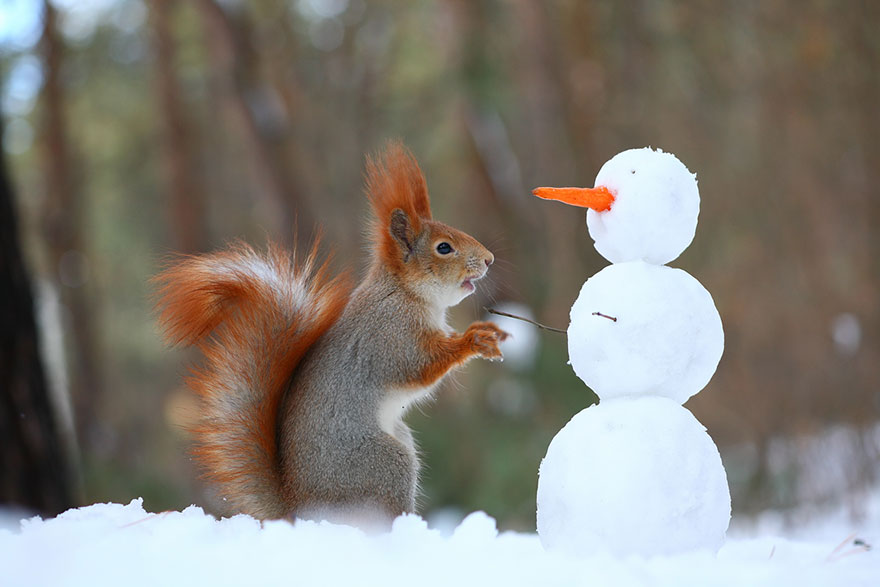chungseolmo: (168, 152, 509, 534)
